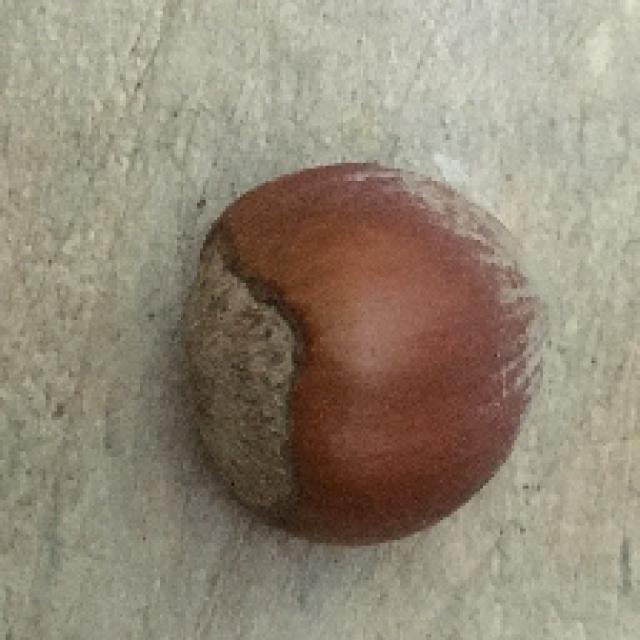qualityHazelnut: (169, 150, 551, 541)
